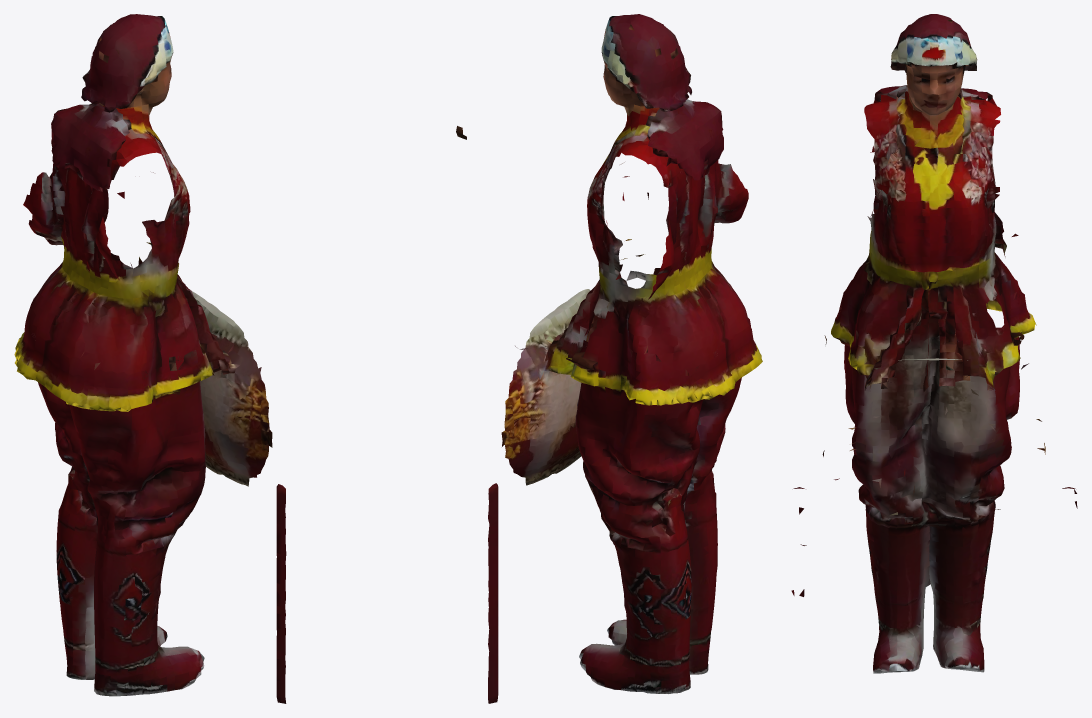
The model's file is taiko_cuerpo.glb.
3 views of the same model, side by side, from view 1: azimuth 30°, elevation 25°; view 2: azimuth 150°, elevation 25°; view 3: azimuth 270°, elevation 25° (orthographic).
Visible parts, largest first — view 1: cuerpo; view 2: cuerpo; view 3: cuerpo.
Boxes of the visible parts, x1,y1,x2,y2 form: cuerpo: (14,14,286,703); cuerpo: (456,14,762,703); cuerpo: (791,14,1077,673).
Bounding box in the file's own units: 0.5388 × 0.9972 × 0.3981.
1 material, 1 textured.
